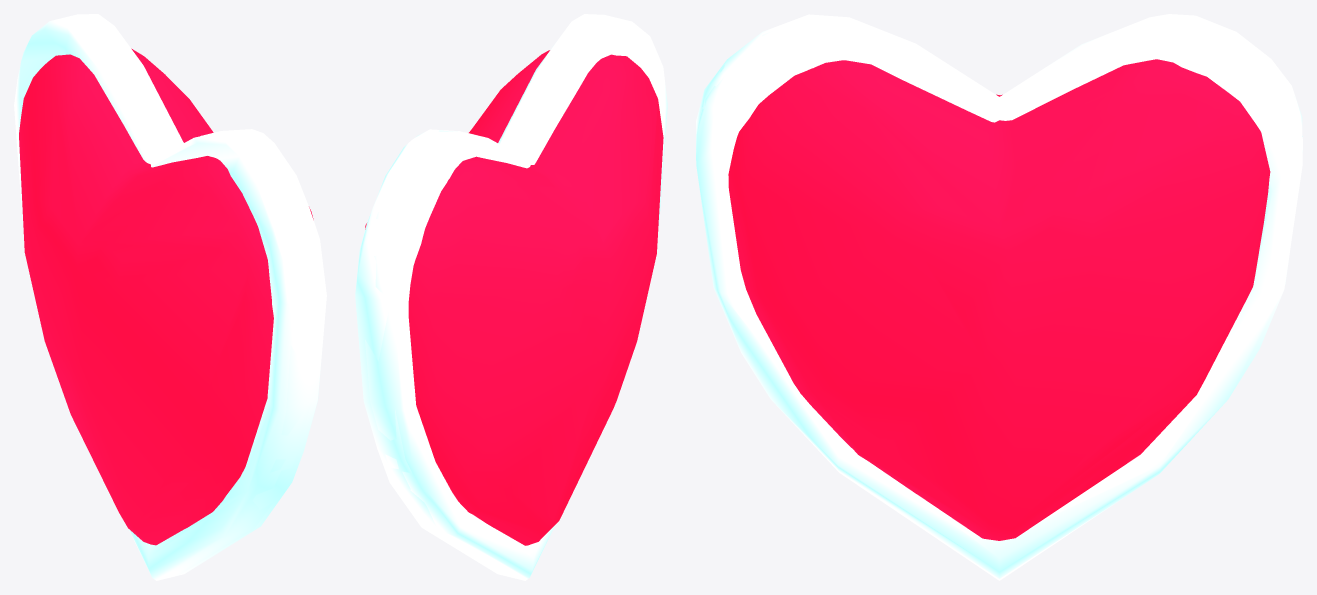
File: Heart.fbx
The picture shows the model from 3 angles, left to right: view 1: azimuth 30°, elevation 25°; view 2: azimuth 150°, elevation 25°; view 3: azimuth 270°, elevation 25°; orthographic projection. The views are drawn at different scales.
Visible parts, largest first — view 1: Heart; view 2: Heart; view 3: Heart.
Boxes of the visible parts, left/top/right/bottom form: Heart: left=14, top=14, right=326, bottom=580; Heart: left=355, top=14, right=667, bottom=580; Heart: left=696, top=14, right=1302, bottom=580.
Bounding box in the file's own units: 236 × 569 × 567.
